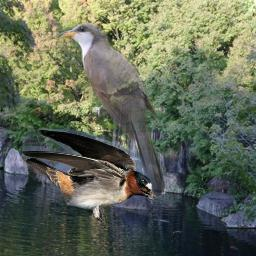Cuckoo: (56, 20, 170, 200)
Swallow: (22, 129, 154, 228)
